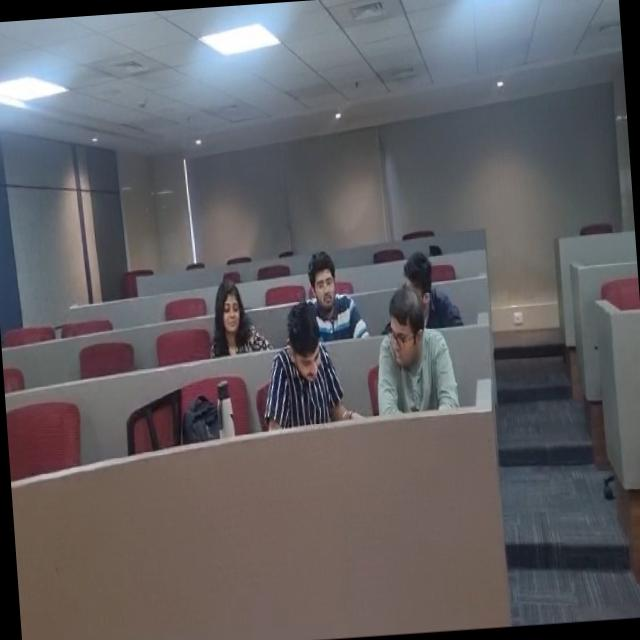cheating: (259, 292, 332, 433), (374, 286, 436, 410), (394, 250, 450, 304)
non-cheating: (202, 265, 262, 366), (301, 244, 357, 340)
